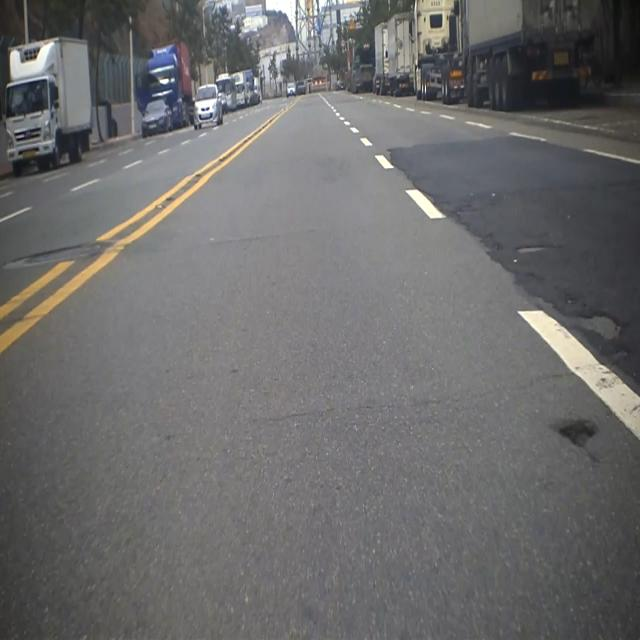Pothole: (542, 404, 608, 474), (566, 301, 632, 351), (515, 236, 554, 264)
